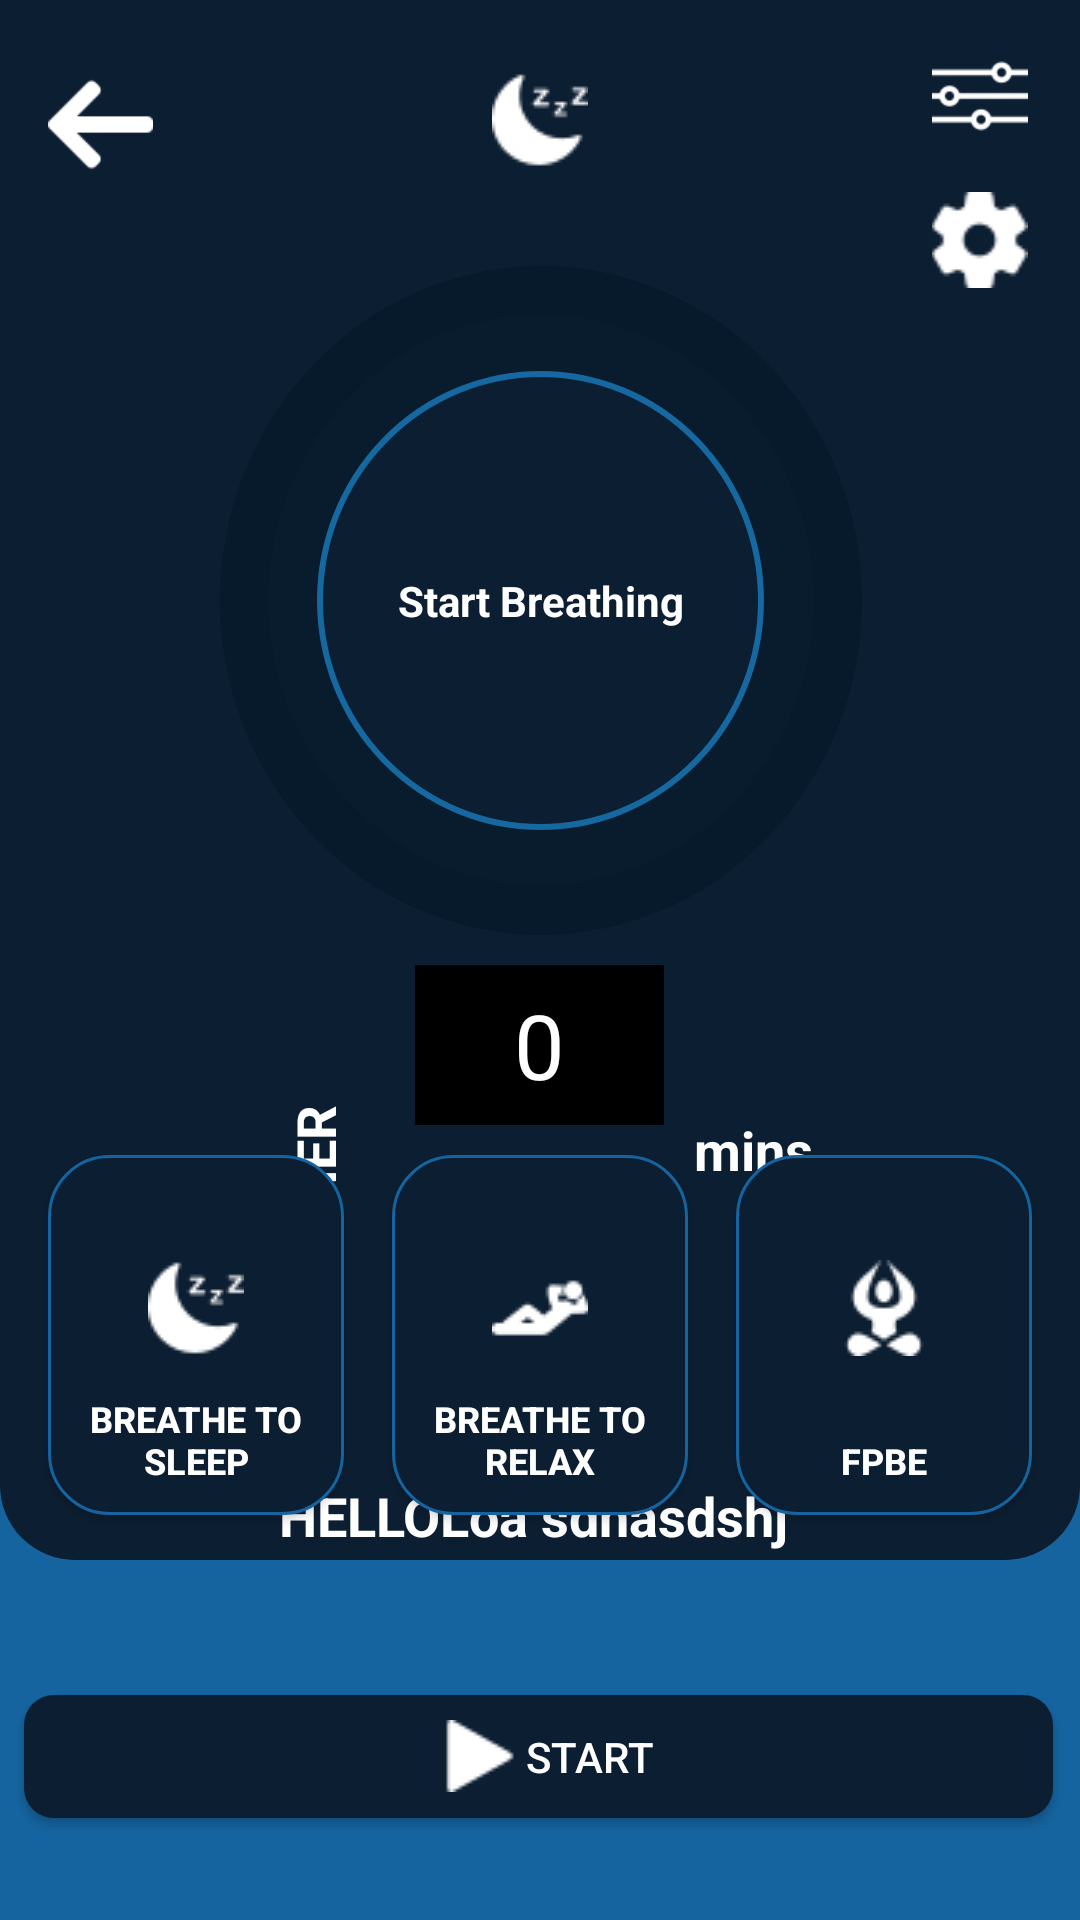

Locate icon controls on the screen. Image size 1080w x 1920h, boxes as (x1, y1, x2, y2).
back: (48, 80, 153, 169)
settings: (932, 192, 1028, 288)
sleepwhite: (492, 74, 588, 166)
slider: (932, 61, 1028, 131)
